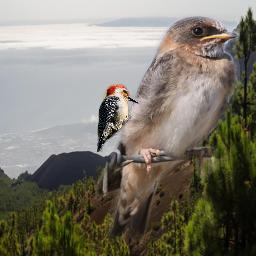Swallow: (94, 13, 240, 242)
Woodpecker: (97, 84, 141, 152)
